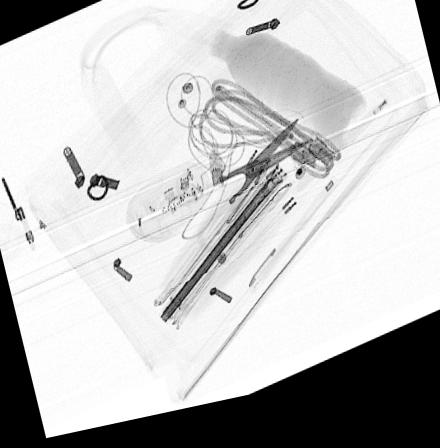Scissors: (175, 130, 315, 265)
